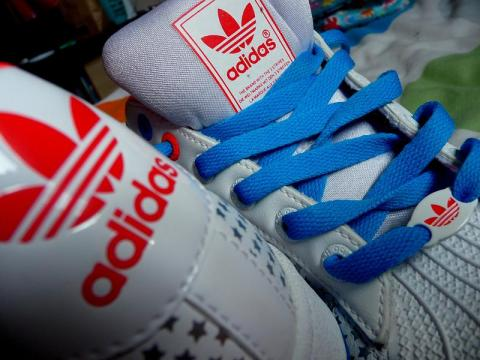addidas: (2, 97, 128, 248), (205, 2, 262, 55), (423, 195, 463, 228)
